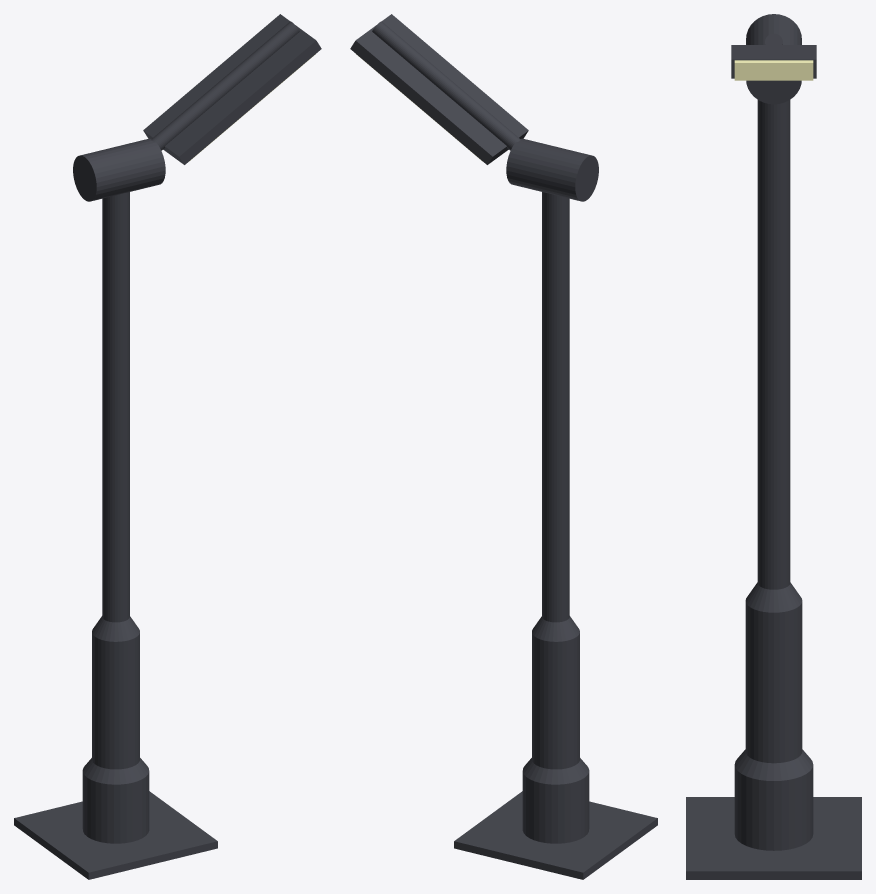
The model's file is Streetlamp.fbx.
3 views of the same model, side by side, from view 1: azimuth 30°, elevation 25°; view 2: azimuth 150°, elevation 25°; view 3: azimuth 270°, elevation 25° (orthographic). The views are drawn at different scales.
Visible parts, largest first — view 1: Farroll; view 2: Farroll; view 3: Farroll, Bombilloua.
Boxes of the visible parts, <box> form: Farroll: <box>14,14,321,879</box>; Farroll: <box>350,14,657,879</box>; Farroll: <box>686,14,861,879</box>; Bombilloua: <box>734,60,813,80</box>.
Bounding box in the file's own units: 391 × 1142 × 200.
2 materials, 2 textured.
